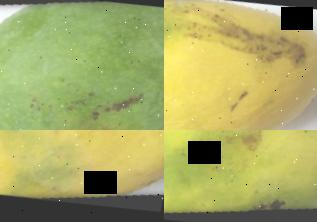PartiallyRipe: (164, 130, 317, 222)
Ripe: (164, 0, 317, 130), (0, 130, 164, 222)
Unripe: (0, 0, 164, 130)
